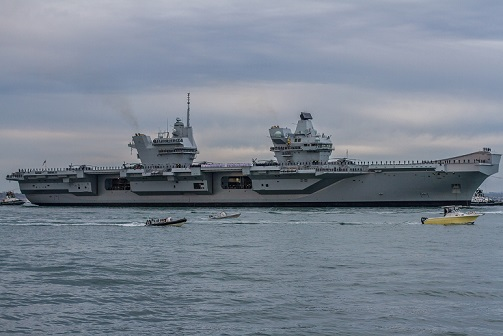Ship: (12, 113, 498, 209)
